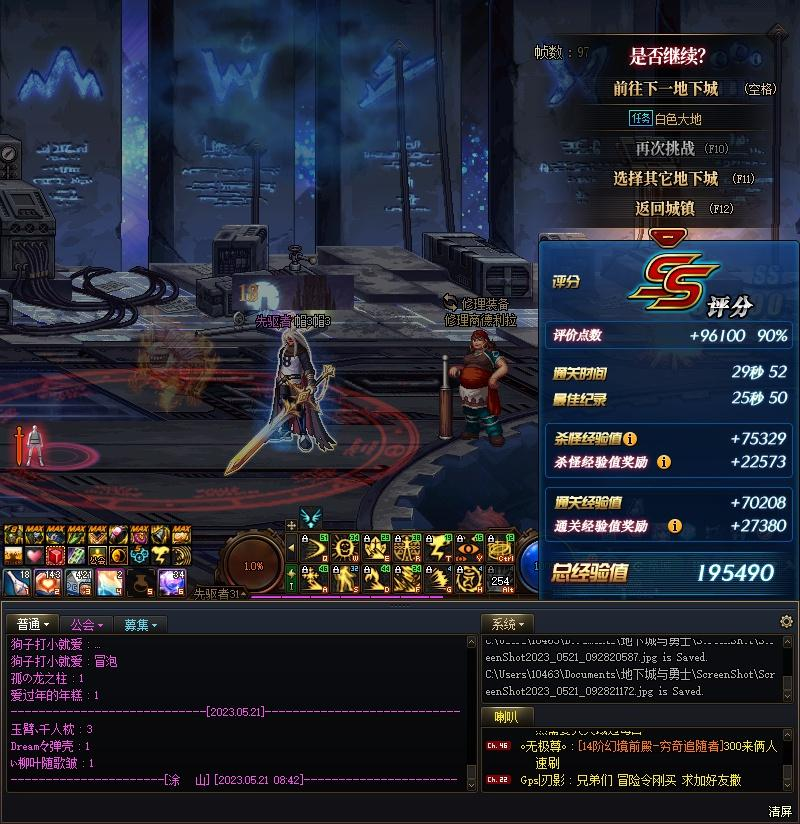-: (621, 138, 738, 162)
